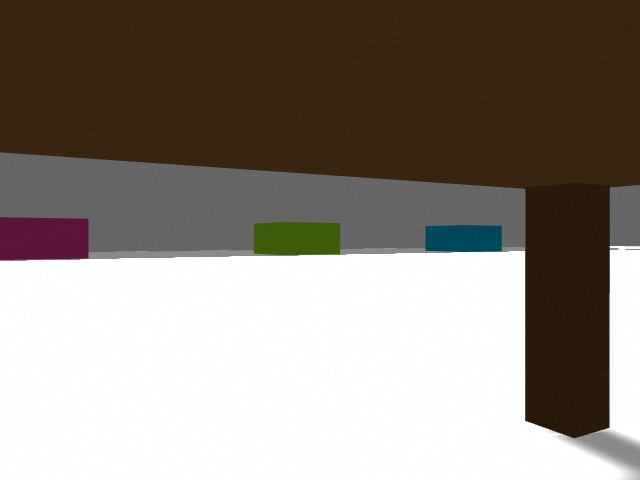blue_drop_zone: (425, 225, 502, 252)
green_drop_zone: (254, 222, 340, 255)
red_drop_zone: (0, 217, 89, 260)
